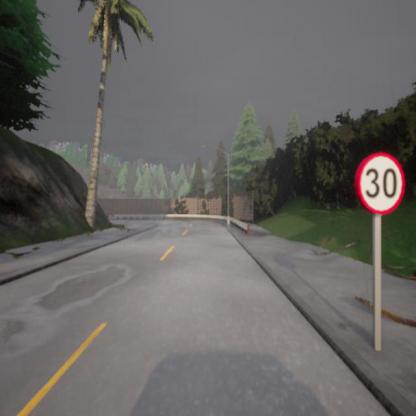traffic_sign_30: (355, 152, 404, 214)
